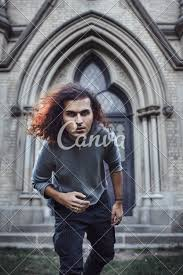middle_eastern_male: (53, 82, 103, 142)
